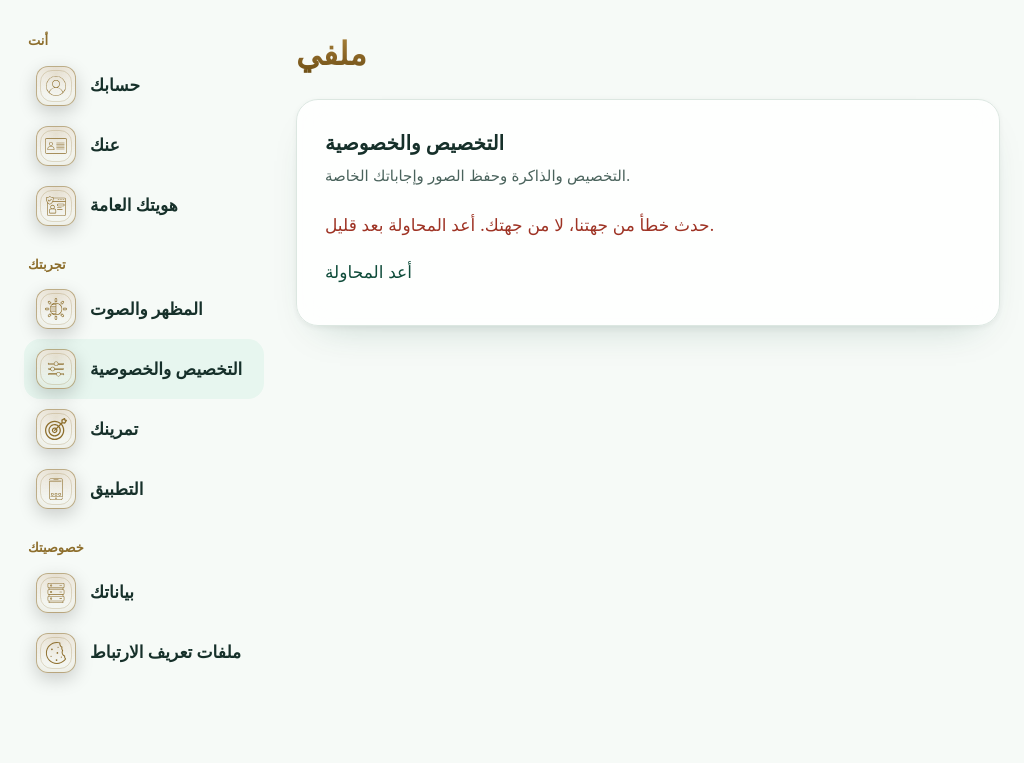
Test: MeScreen signed in › says when the profile cannot be read, and tries again
The image size is (1024, 763).
Expected: the text "حدث خطأ من جهتنا، لا من جهتك. أعد المحاولة بعد قليل." is shown, [325, 210, 714, 240]
Click the button "أعد المحاولة". click: click(368, 272)
box: [325, 248, 412, 296]
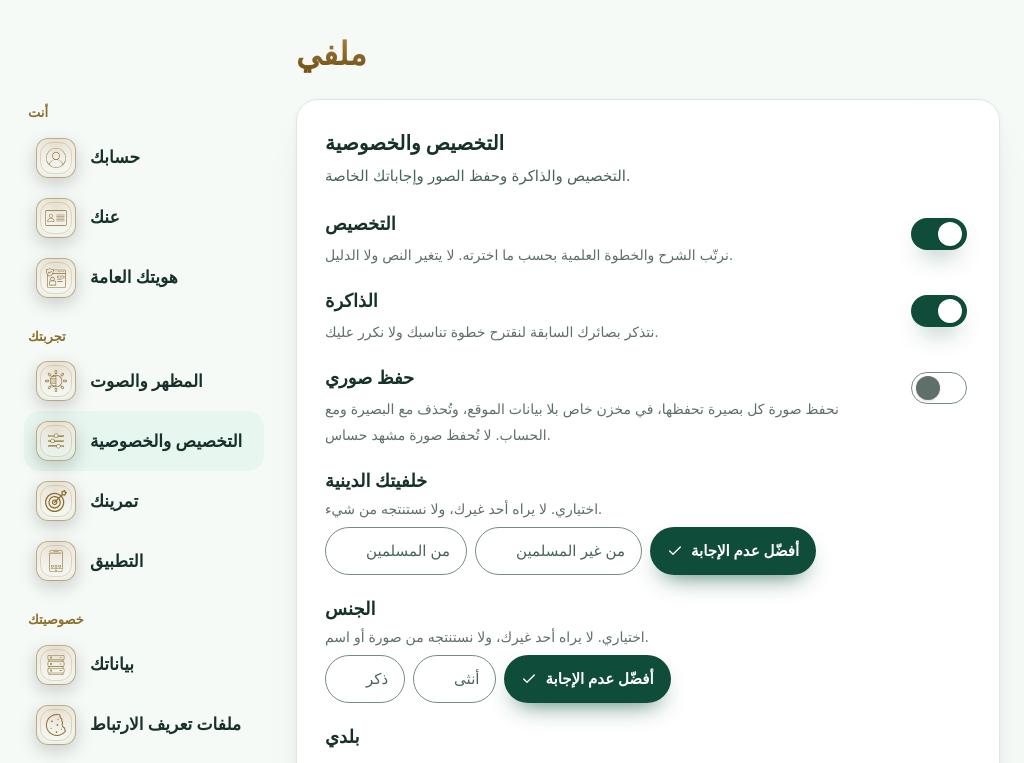
Expected: the 2nd switch named "الذاكرة" is shown, [907, 287, 971, 335]
